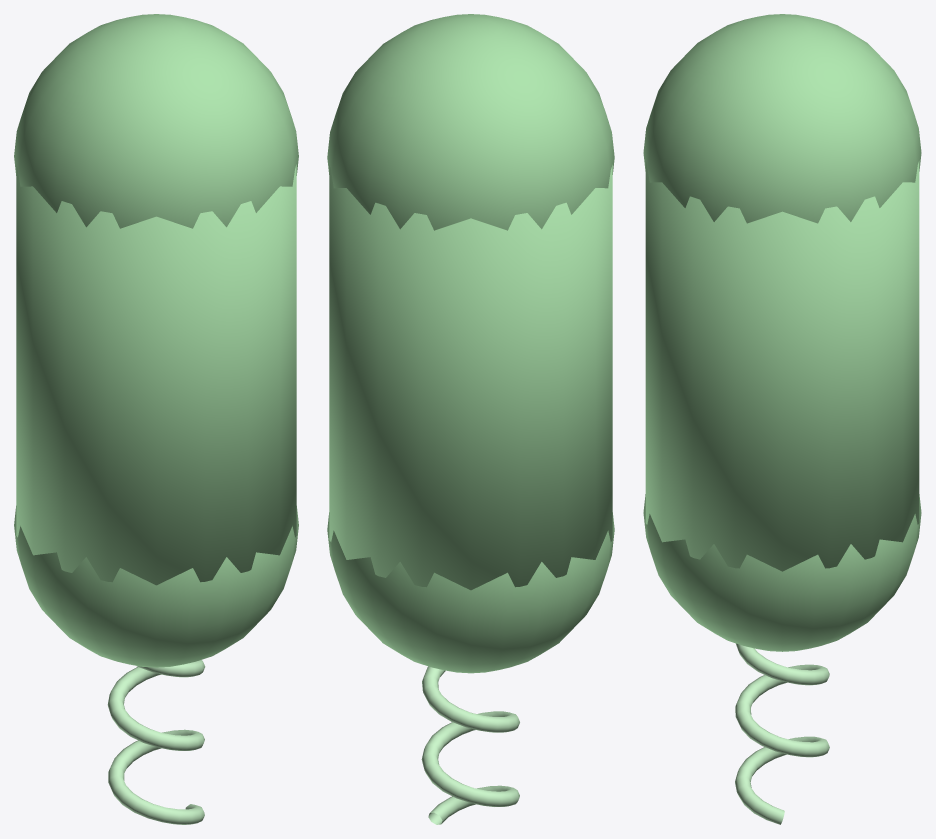
File: bacterium.glb
3 views of the same model, side by side, from view 1: azimuth 30°, elevation 25°; view 2: azimuth 150°, elevation 25°; view 3: azimuth 270°, elevation 25° (orthographic). The views are drawn at different scales.
Visible parts, largest first — view 1: body, cap_t, cap_b, flag; view 2: body, cap_t, cap_b, flag; view 3: body, cap_t, cap_b, flag.
Boxes of the visible parts, bbox=[...] form: body: bbox=[16, 164, 296, 585]; cap_t: bbox=[14, 14, 298, 228]; cap_b: bbox=[14, 506, 298, 667]; flag: bbox=[107, 660, 205, 824]; body: bbox=[329, 165, 612, 590]; cap_t: bbox=[327, 14, 614, 230]; cap_b: bbox=[327, 512, 614, 673]; flag: bbox=[421, 666, 519, 824]; body: bbox=[645, 161, 919, 571]; cap_t: bbox=[643, 14, 921, 223]; cap_b: bbox=[643, 494, 921, 651]; flag: bbox=[735, 643, 829, 824].
Bounding box in the file's own units: 0.7 × 2.17 × 0.7.
